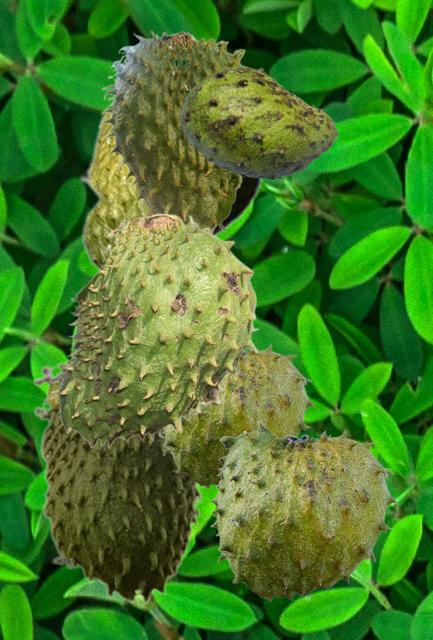guyabano: (48, 213, 258, 448), (33, 351, 207, 603), (209, 421, 397, 600), (98, 30, 263, 232), (78, 101, 264, 272), (162, 343, 314, 487), (179, 66, 337, 179)
